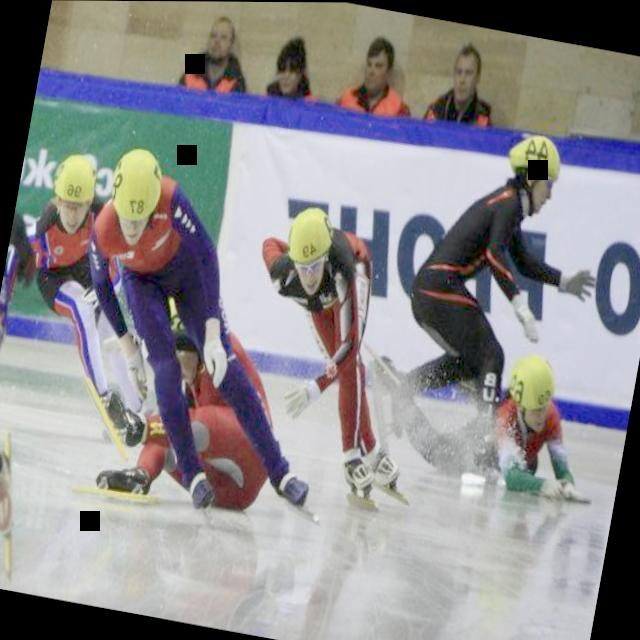Fall-Detected: (70, 353, 318, 532)
